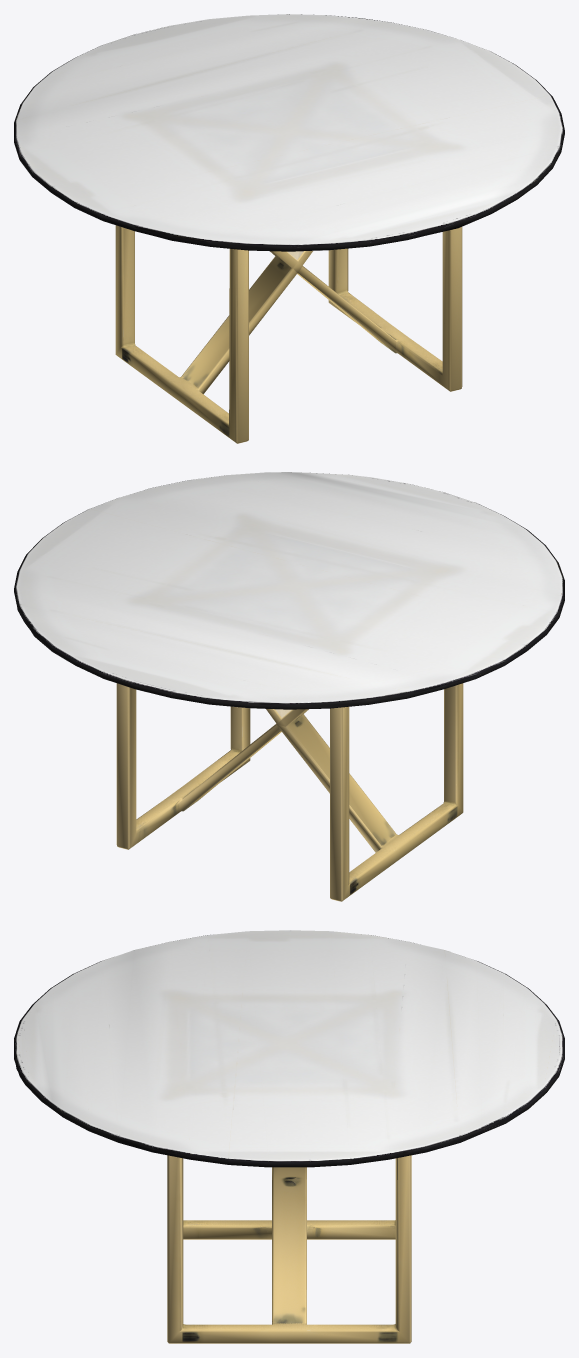
Rendered from Fitzgerald_60in_Round_0403211050_texture.glb.
3 renders of one model, top to bottom at view 1: azimuth 30°, elevation 25°; view 2: azimuth 150°, elevation 25°; view 3: azimuth 270°, elevation 25°, orthographic.
Parts seen in each view (by area): view 1: Mesh_0.002; view 2: Mesh_0.002; view 3: Mesh_0.002.
Boxes of the visible parts, bbox=[...] form: Mesh_0.002: bbox=[14, 14, 564, 443]; Mesh_0.002: bbox=[14, 472, 564, 901]; Mesh_0.002: bbox=[14, 930, 564, 1343].
Bounding box in the file's own units: 1.56 × 0.762 × 1.56.
1 material, 1 textured.
